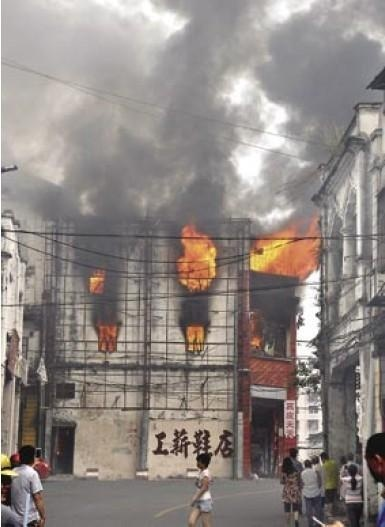fire: (246, 221, 321, 277), (177, 221, 219, 289), (94, 318, 121, 351), (182, 321, 207, 352), (246, 328, 267, 351), (86, 269, 105, 294)
